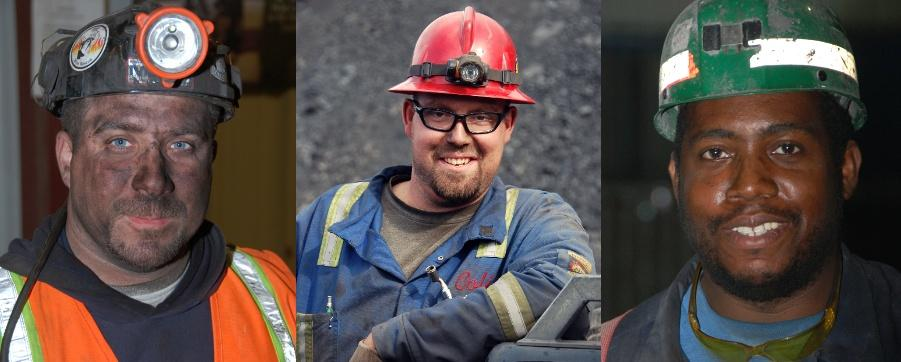helmet: (655, 1, 871, 146), (29, 8, 271, 114), (394, 8, 534, 107)
